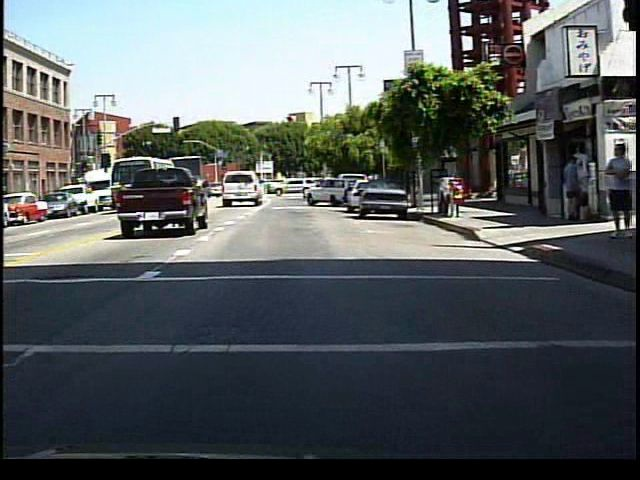person: (598, 138, 626, 241), (561, 152, 585, 224)
